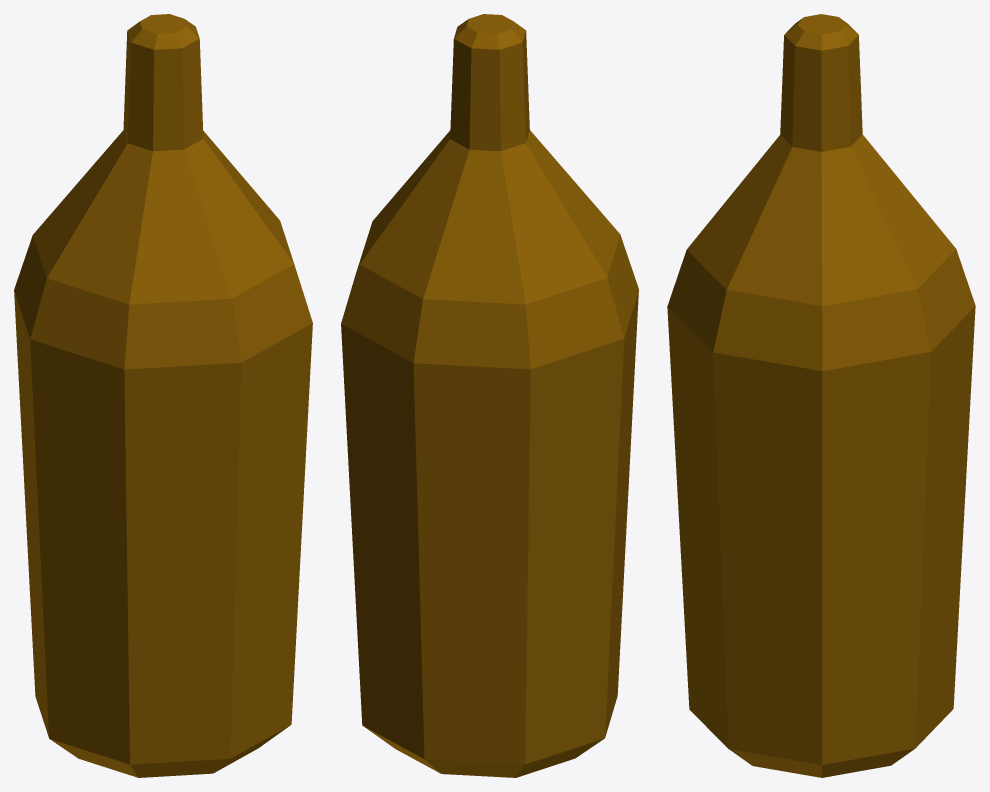
The model's file is Whisky2.fbx.
3 renders of one model, left to right at view 1: azimuth 30°, elevation 25°; view 2: azimuth 150°, elevation 25°; view 3: azimuth 270°, elevation 25°, orthographic.
Parts seen in each view (by area): view 1: Whisky2; view 2: Whisky2; view 3: Whisky2.
Boxes of the visible parts, bbox=[...] form: Whisky2: bbox=[14, 14, 312, 777]; Whisky2: bbox=[341, 14, 638, 777]; Whisky2: bbox=[667, 14, 975, 777].
Size of the model in its own units: 0.094 by 0.2396 by 0.094.
1 material, 1 textured.
